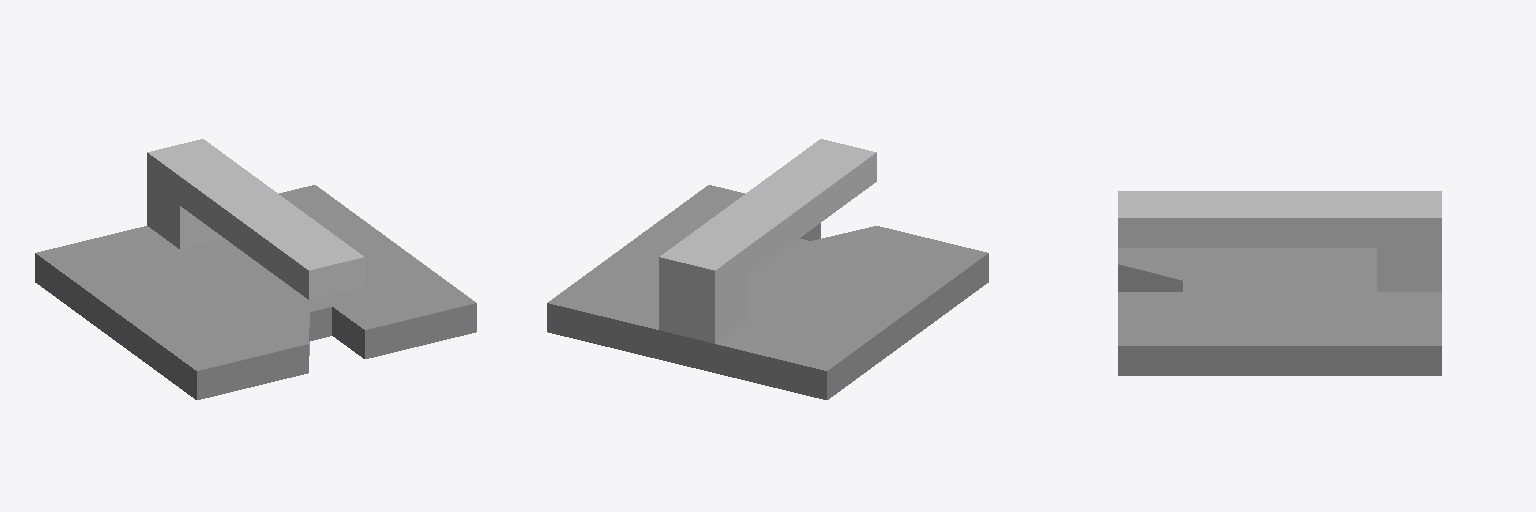
Rendered from hang2.obj.
The picture shows the model from 3 angles: view 1: azimuth 30°, elevation 25°; view 2: azimuth 150°, elevation 25°; view 3: azimuth 270°, elevation 25°; orthographic projection.
Visible parts, largest first — view 1: Cube, Cube.001_Cube.004, Cube.003; view 2: Cube, Cube.001_Cube.004, Cube.003; view 3: Cube, Cube.001_Cube.004, Cube.003.
Part boxes in pixels (x1,y1,x2,y2): Cube: (35, 185, 476, 399); Cube.001_Cube.004: (147, 139, 364, 299); Cube.003: (147, 167, 223, 248); Cube: (547, 185, 988, 399); Cube.001_Cube.004: (659, 139, 876, 299); Cube.003: (659, 271, 747, 343); Cube: (1118, 248, 1441, 375); Cube.001_Cube.004: (1118, 191, 1441, 247); Cube.003: (1377, 233, 1441, 291).
Size of the model in its own units: 10 by 3.5 by 10.